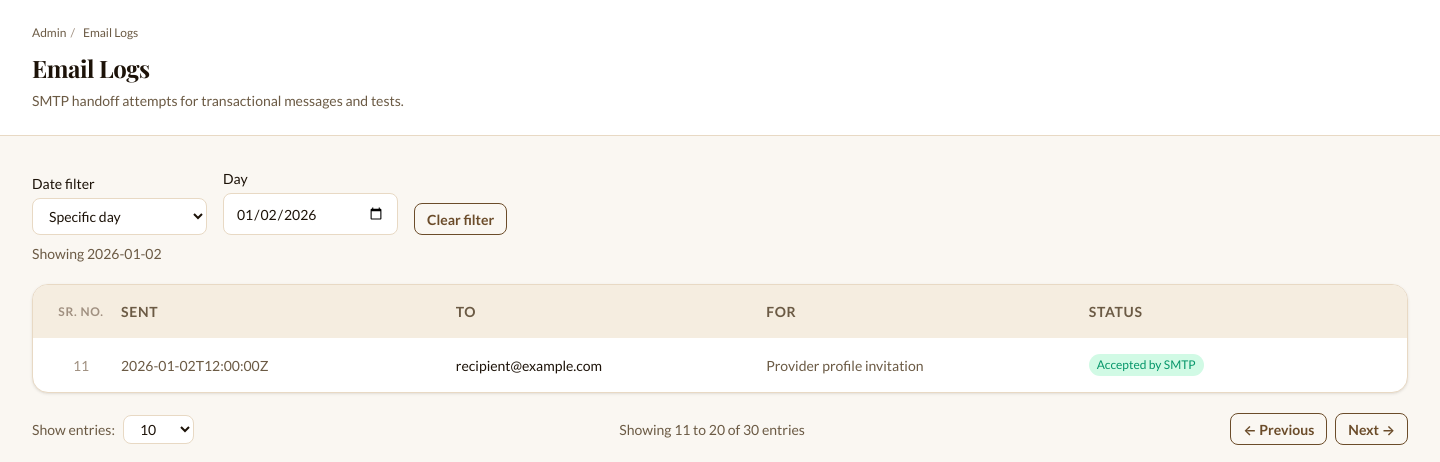
Scenario: EmailLogsPage › clears the date filter and returns to the first page while retaining page size
The width and height of the screenshot is (1440, 462).
Expected: the text "recipient@example.com" is shown, [456, 356, 602, 374]
Expected: the text "Showing 2026-01-02" is shown, [32, 245, 162, 262]
Click the button "Clear filter" at (461, 219), box [414, 203, 507, 235]
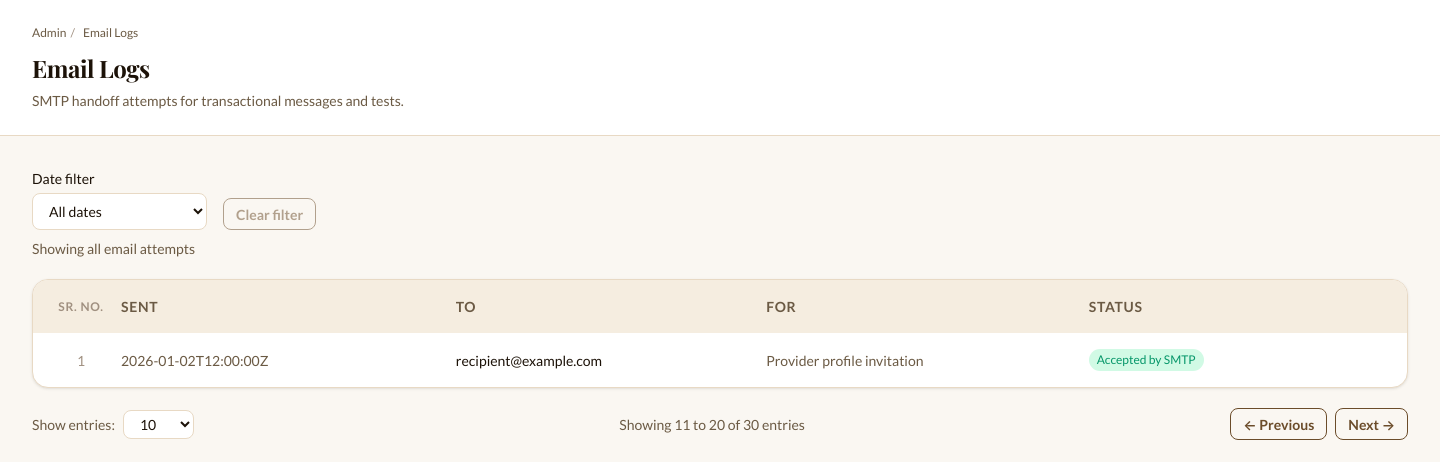
Now the text "Showing all email attempts" is shown, box [32, 240, 195, 257]
Now the label labelled "Day" is gone
Now the button "Clear filter" is disabled, box [223, 198, 316, 230]
